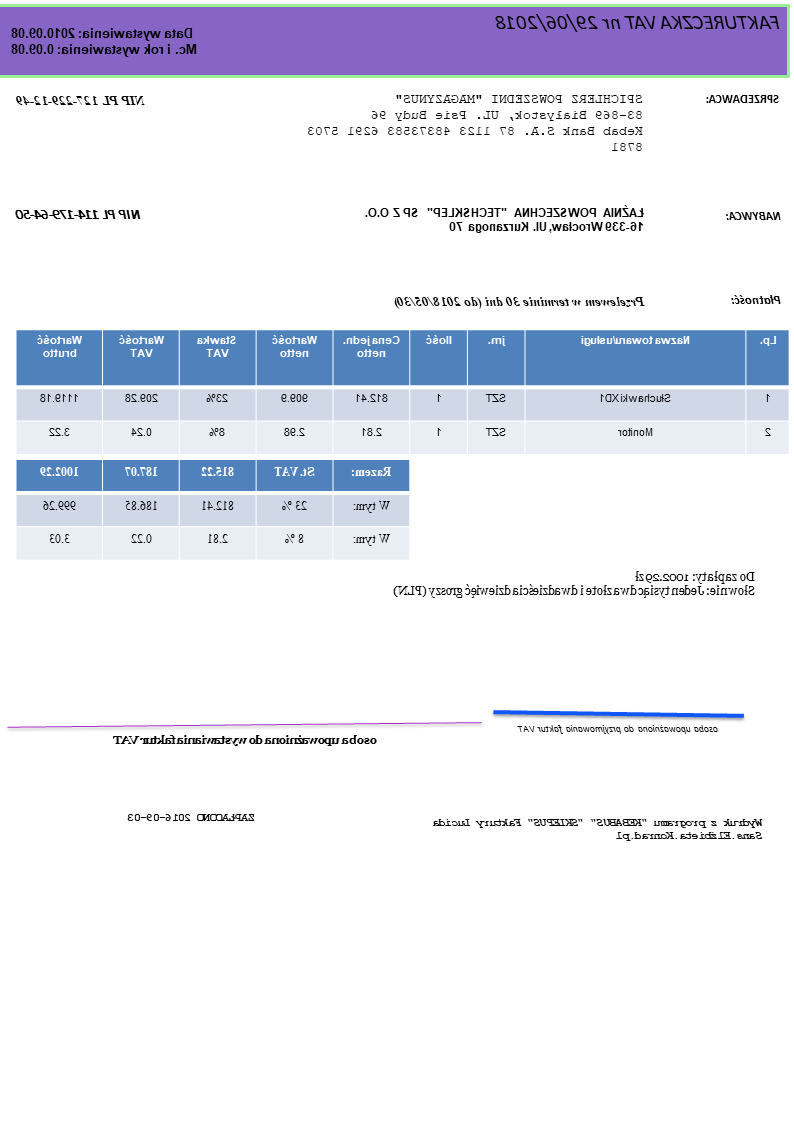Table: (14, 328, 792, 456), (15, 458, 411, 561)
TextBox: (305, 90, 645, 154), (392, 568, 758, 600), (431, 814, 765, 842), (364, 202, 646, 234), (493, 11, 782, 34), (9, 24, 200, 58), (391, 293, 648, 312), (111, 730, 379, 748), (516, 722, 722, 736), (14, 92, 147, 109), (12, 207, 143, 222), (126, 810, 257, 825), (703, 91, 782, 106), (722, 208, 785, 223), (729, 291, 783, 307)
